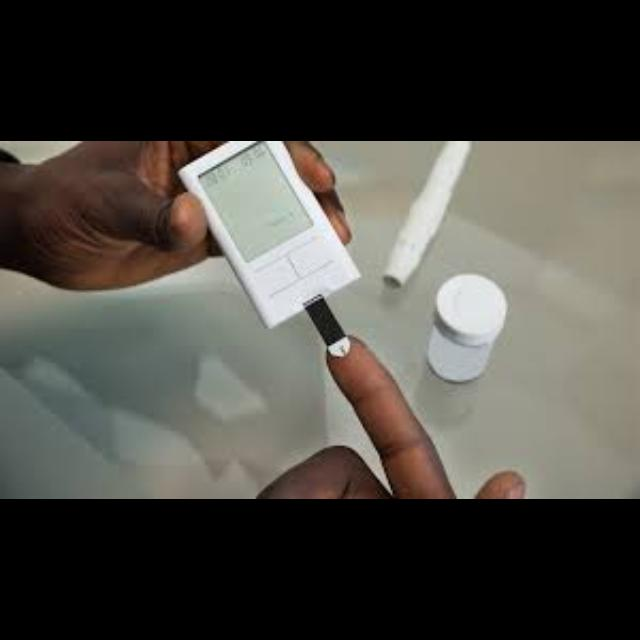Glucose-Meter: (180, 141, 360, 353)
